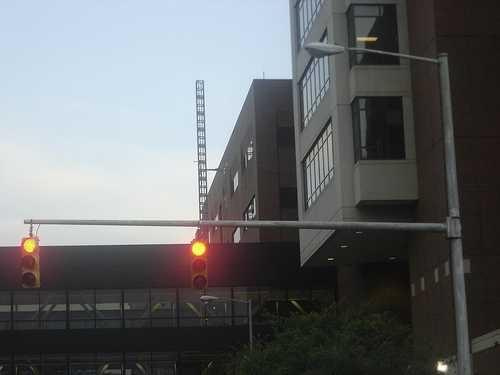red: (186, 240, 209, 294), (22, 233, 41, 295)
